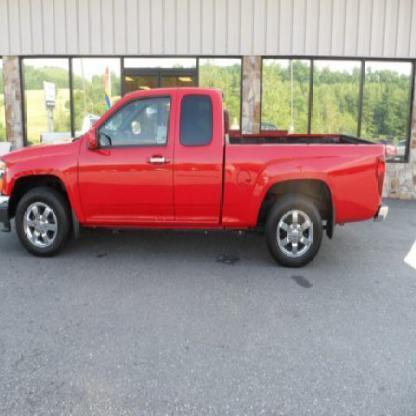Vehicle: (1, 89, 389, 269)
